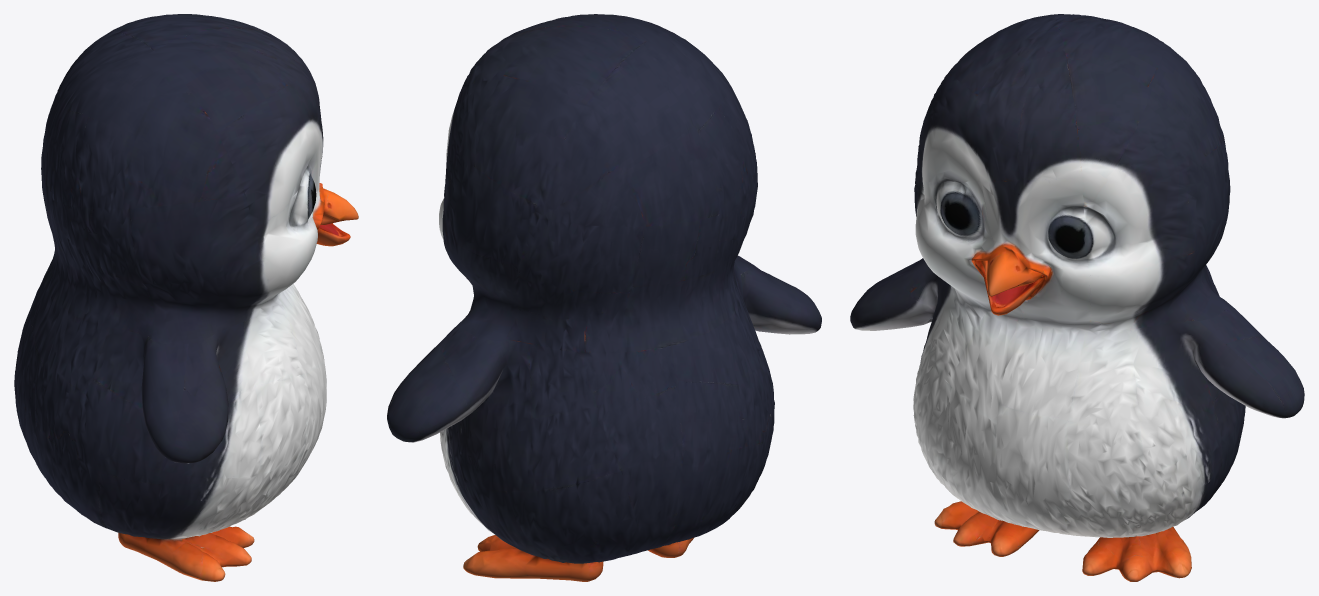
Rendered from pingvin.glb.
3 views of the same model, side by side, from view 1: azimuth 30°, elevation 25°; view 2: azimuth 150°, elevation 25°; view 3: azimuth 270°, elevation 25° (orthographic). The views are drawn at different scales.
Visible parts, largest first — view 1: Mesh_0; view 2: Mesh_0; view 3: Mesh_0.
Part boxes in pixels (x1=…): Mesh_0: x1=14, y1=14, x2=358, y2=581; Mesh_0: x1=387, y1=14, x2=821, y2=581; Mesh_0: x1=850, y1=14, x2=1304, y2=581.
Size of the model in its own units: 1.13 by 1.9 by 1.53.
Materials: 1 (1 with a texture image).
